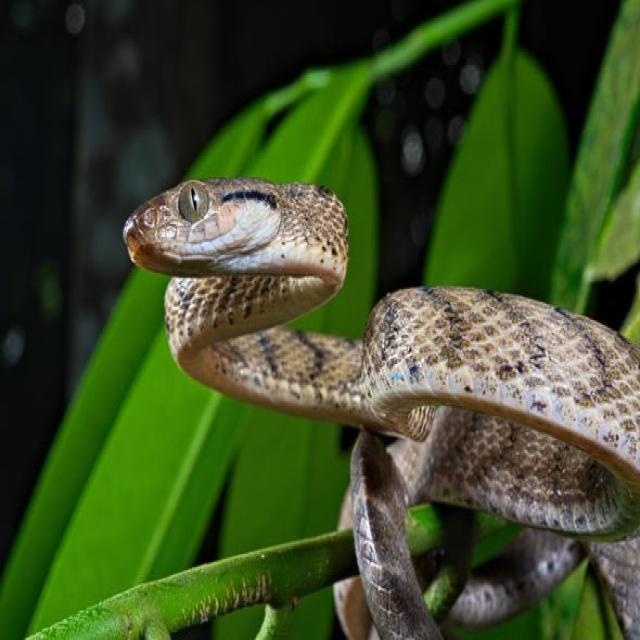Snake: (117, 175, 640, 640)
